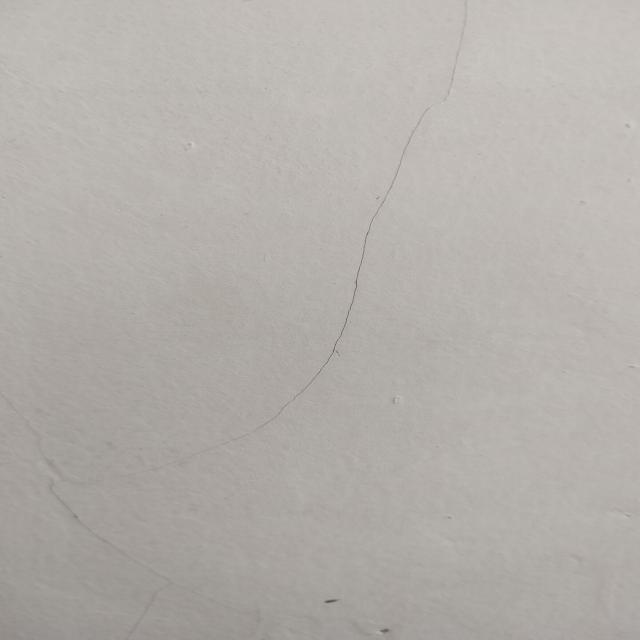Crack: (75, 3, 485, 490)
